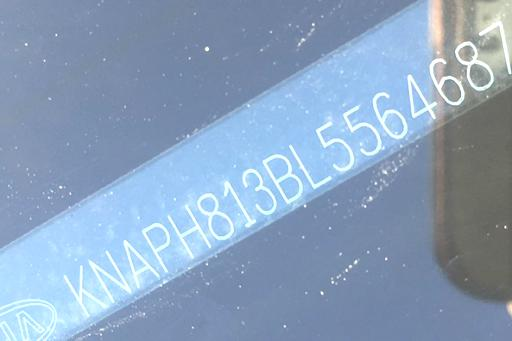letter: (165, 202, 209, 261), (312, 122, 356, 175), (286, 142, 332, 191), (192, 189, 236, 240), (343, 103, 383, 159), (90, 246, 130, 302), (114, 236, 158, 286), (452, 40, 494, 91), (64, 260, 100, 317), (371, 86, 407, 142), (240, 164, 278, 217), (427, 56, 465, 109), (405, 67, 437, 129), (266, 152, 302, 207), (220, 175, 256, 230), (141, 219, 175, 276), (476, 19, 510, 75)
